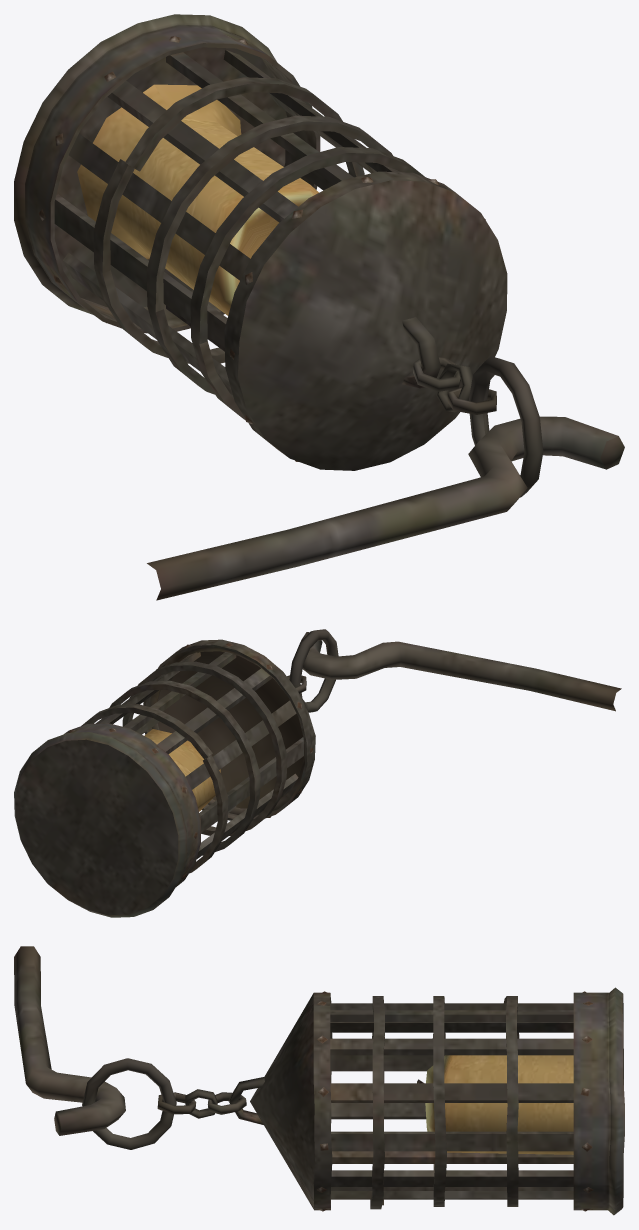
File: GEN_PRO_Lantern_Wall_WS_01A_LOD0-transformed.glb
3 views of the same model, one above another, from view 1: azimuth 30°, elevation 25°; view 2: azimuth 150°, elevation 25°; view 3: azimuth 270°, elevation 25° (orthographic). The views are drawn at different scales.
Parts seen in each view (by area): view 1: GEN_PRO_Lantern_Wall_WS_01A_LOD0; view 2: GEN_PRO_Lantern_Wall_WS_01A_LOD0; view 3: GEN_PRO_Lantern_Wall_WS_01A_LOD0.
Part boxes in pixels (<box>): GEN_PRO_Lantern_Wall_WS_01A_LOD0: <box>14,14,624,600</box>; GEN_PRO_Lantern_Wall_WS_01A_LOD0: <box>14,629,621,917</box>; GEN_PRO_Lantern_Wall_WS_01A_LOD0: <box>14,946,624,1215</box>.
Bounding box in the file's own units: 0.00417 × 0.00207 × 0.00559.
Materials: 2 (2 with a texture image).
